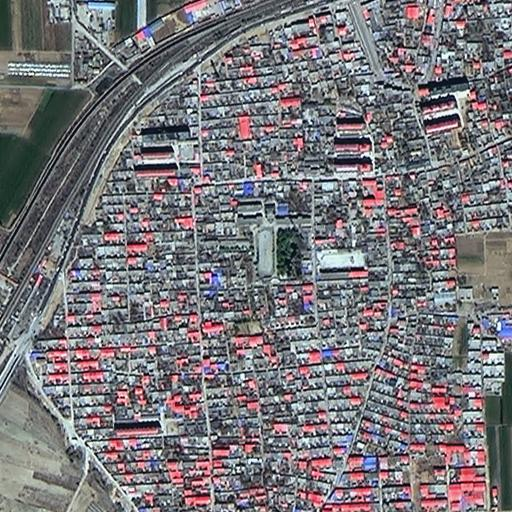school: (238, 200, 306, 281), (309, 247, 371, 280)
